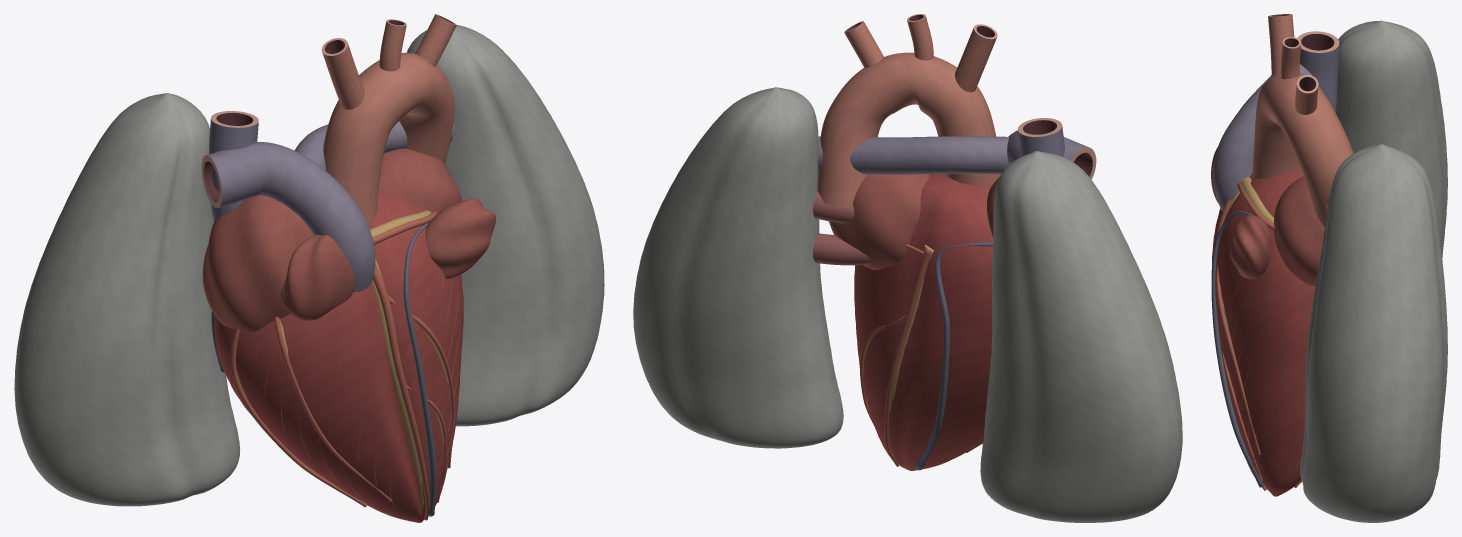
Rendered from heart-study.glb.
The picture shows the model from 3 angles, left to right: view 1: azimuth 30°, elevation 25°; view 2: azimuth 150°, elevation 25°; view 3: azimuth 270°, elevation 25°; orthographic projection. The views are drawn at different scales.
Parts seen in each view (by area): view 1: chest-context--1, chest-context-1, ventricular-surface-study, aortic-arch-form, right-atrial-form, pulmonary-trunk-form, right-auricle-form, left-auricle-form, left-atrial-form, front-descending-study, front-venous-study, arch-branch-a (+8 smaller); view 2: chest-context--1, chest-context-1, ventricular-surface-study, aortic-arch-form, pulmonary-branch-form, left-atrial-form, posterior-venous-study, arch-branch-a, posterior-descending-study, posterior-connection-b, arch-branch-c, upper-venous-form (+3 smaller); view 3: chest-context-1, ventricular-surface-study, chest-context--1, aortic-arch-form, left-atrial-form, pulmonary-trunk-form, left-auricle-form, front-venous-study, upper-venous-form, arch-branch-a, front-diagonal-study, arch-branch-b (+6 smaller).
Part boxes in pixels (bbox=[...]): chest-context--1: bbox=[14, 93, 240, 506]; chest-context-1: bbox=[407, 25, 604, 426]; ventricular-surface-study: bbox=[214, 187, 463, 522]; aortic-arch-form: bbox=[323, 52, 454, 225]; right-atrial-form: bbox=[202, 195, 314, 332]; pulmonary-trunk-form: bbox=[207, 142, 375, 292]; right-auricle-form: bbox=[281, 234, 355, 320]; left-auricle-form: bbox=[425, 198, 496, 278]; left-atrial-form: bbox=[379, 148, 461, 213]; front-descending-study: bbox=[373, 263, 430, 520]; front-venous-study: bbox=[403, 223, 436, 516]; arch-branch-a: bbox=[322, 44, 364, 109]; chest-context--1: bbox=[980, 151, 1182, 522]; chest-context-1: bbox=[633, 87, 843, 448]; ventricular-surface-study: bbox=[854, 173, 993, 470]; aortic-arch-form: bbox=[817, 52, 1000, 207]; pulmonary-branch-form: bbox=[817, 136, 1008, 174]; left-atrial-form: bbox=[829, 174, 929, 269]; posterior-venous-study: bbox=[915, 242, 992, 470]; arch-branch-a: bbox=[955, 27, 996, 92]; posterior-descending-study: bbox=[884, 247, 931, 466]; posterior-connection-b: bbox=[813, 233, 873, 265]; arch-branch-c: bbox=[844, 21, 883, 67]; upper-venous-form: bbox=[1018, 126, 1064, 156]; chest-context-1: bbox=[1300, 144, 1447, 522]; ventricular-surface-study: bbox=[1212, 168, 1315, 496]; chest-context--1: bbox=[1336, 20, 1447, 257]; aortic-arch-form: bbox=[1252, 72, 1353, 227]; left-atrial-form: bbox=[1274, 176, 1324, 286]; pulmonary-trunk-form: bbox=[1213, 64, 1312, 211]; left-auricle-form: bbox=[1230, 215, 1271, 279]; front-venous-study: bbox=[1211, 211, 1264, 487]; upper-venous-form: bbox=[1300, 45, 1339, 112]; arch-branch-a: bbox=[1268, 14, 1294, 75]; front-diagonal-study: bbox=[1216, 262, 1260, 455]; arch-branch-b: bbox=[1281, 43, 1301, 79].
Size of the model in its own units: 4.14 by 3.42 by 1.64.
